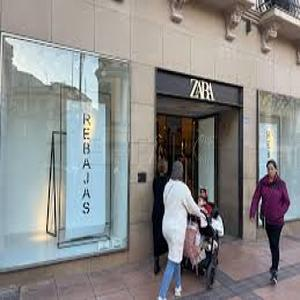zara: (183, 76, 220, 105)
